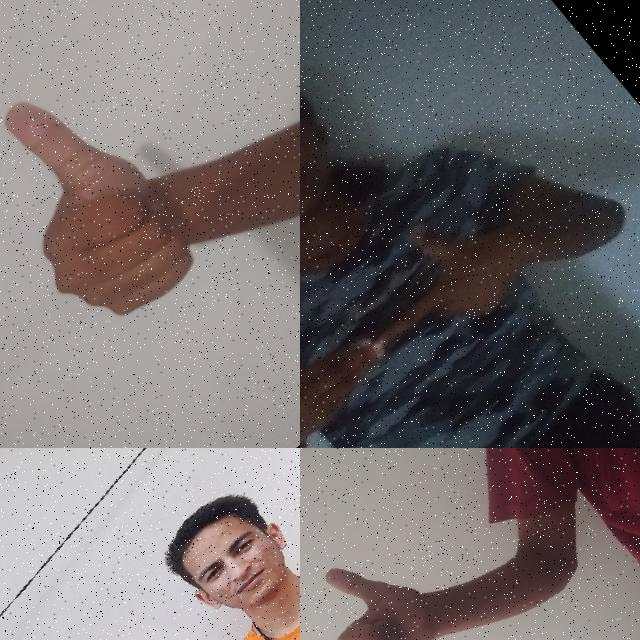Five Fathers: (300, 172, 542, 448)
Thumbs Up: (0, 53, 224, 350), (300, 529, 470, 640)
